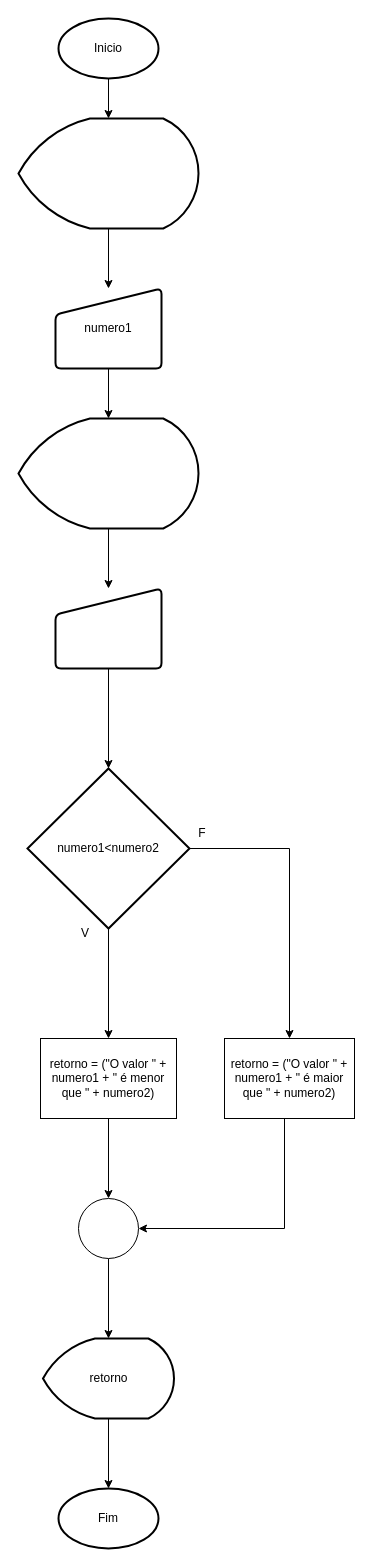
The diagram is 372 pixels wide and 1566 high, and some of its shapes have lost their labels. The box of each missing label's shape, as (x1, y1, x2, y2) in pixels:
Digite o primeiro valor:: (17, 117, 199, 229)
Digite o segundo valor:: (17, 417, 199, 529)
numero2: (54, 587, 162, 669)
